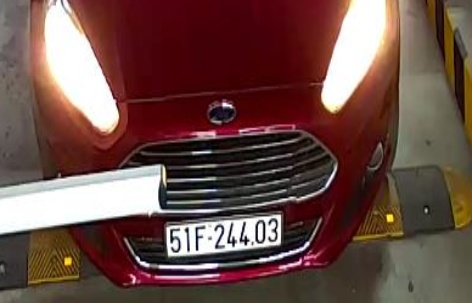plate: (156, 212, 288, 261)
